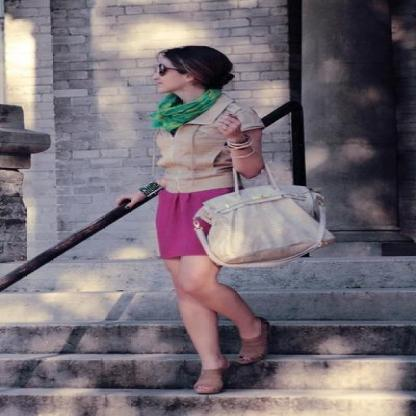bag: (193, 180, 333, 268)
shirt: (155, 96, 263, 192)
shoe: (173, 317, 286, 401)
skirt: (156, 186, 233, 261)
sunglass: (158, 58, 186, 76)
